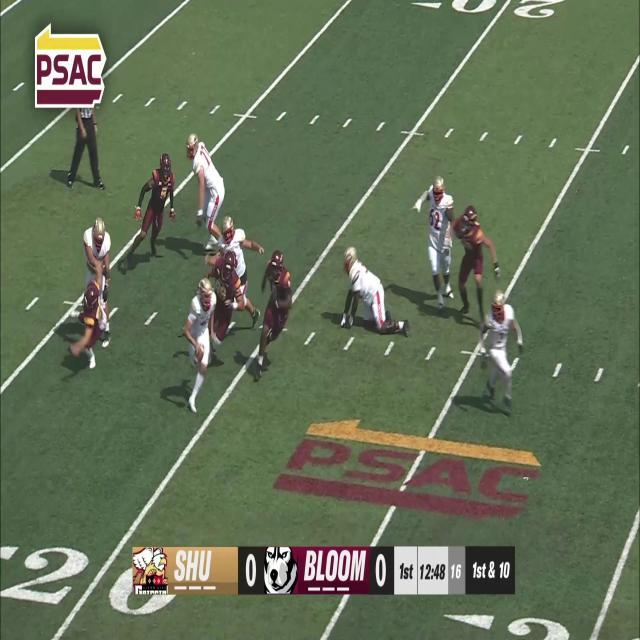football: (192, 344, 206, 364)
